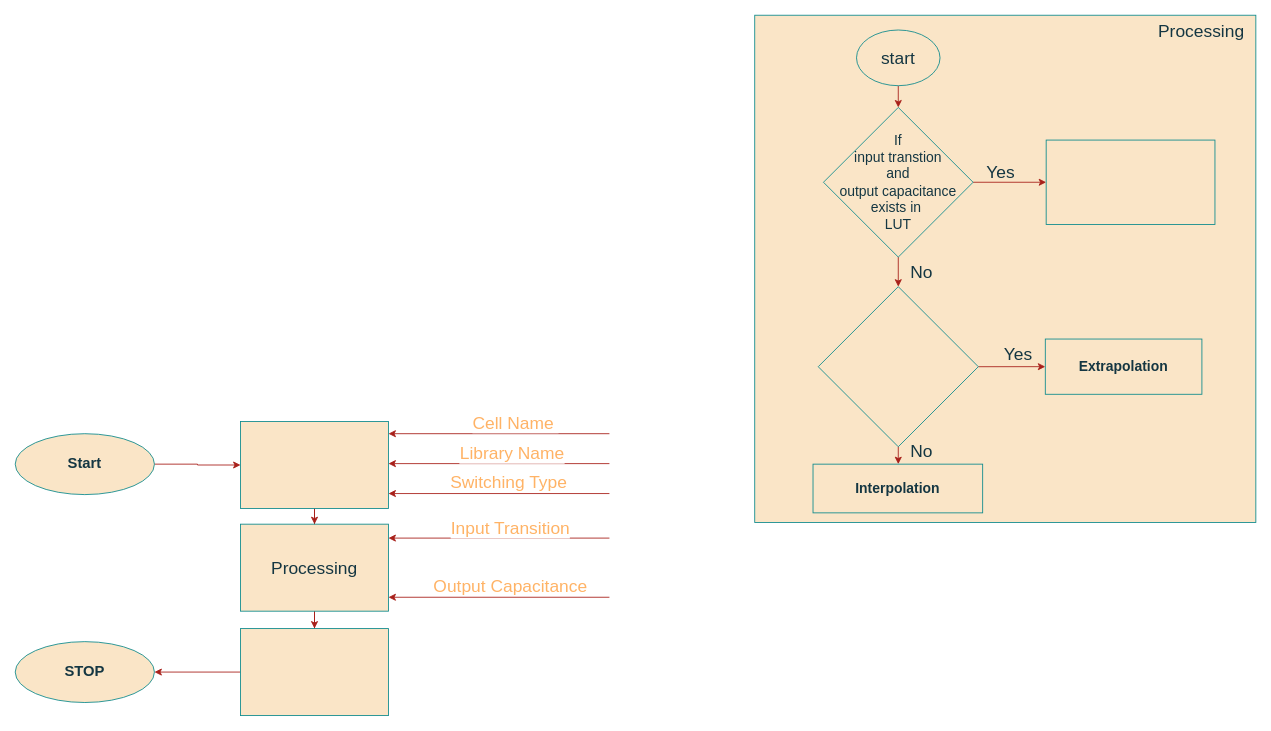
Image size: 1271x731. Some labels were removed from this diagram. Each missing label, with the centre of its shape:
go to timing table and match the values which exist in specific row and column: pixel 1130 181
If input transtion or output capacitance out of Range: pixel 897 366
Parsing: pixel 314 465
Write Files: pixel 314 672
